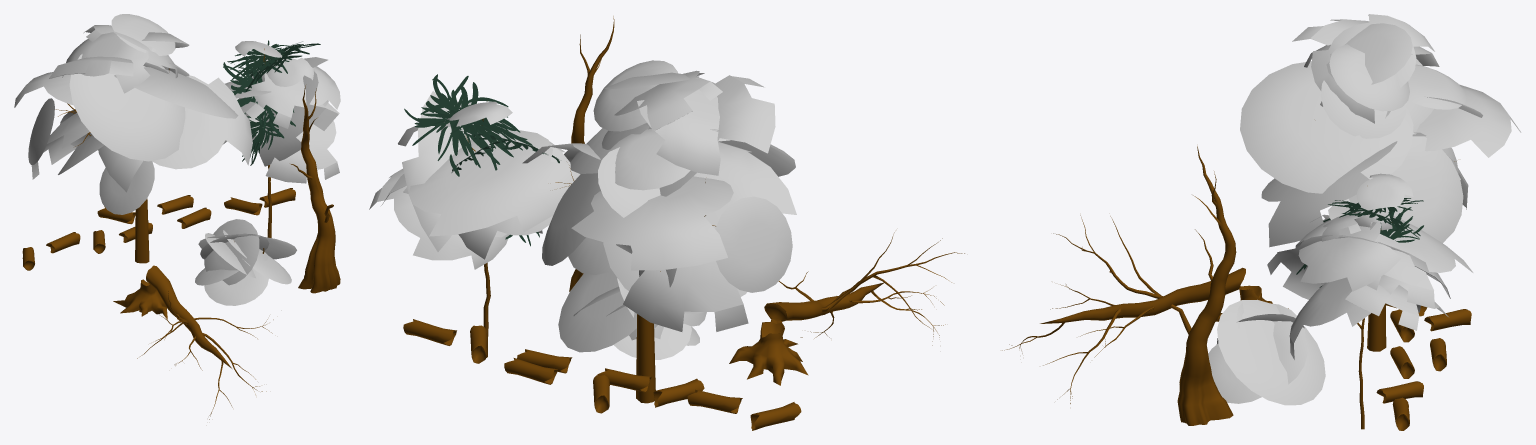
File: Trees.fbx
The picture shows the model from 3 angles, left to right: view 1: azimuth 30°, elevation 25°; view 2: azimuth 150°, elevation 25°; view 3: azimuth 270°, elevation 25°; orthographic projection. The views are drawn at different scales.
Visible parts, largest first — view 1: pSphere10, pSphere18, pasted__pasted__polySurface1609, pasted__polySurface40, pSphere11, pSphere32, pSphere27, pSphere1, pSphere35, pasted__pSphere36, pSphere21, pSphere2 (+26 smaller); view 2: pSphere30, pSphere14, pSphere12, pSphere15, pasted__polySurface40, pasted__pSphere40, pSphere1, pSphere7, pSphere25, pSphere8, pSphere19, pSphere32 (+25 smaller); view 3: pSphere11, pasted__pSphere40, pasted__pasted__polySurface1609, pSphere19, pSphere27, pasted__polySurface40, pSphere18, pSphere12, pSphere30, pSphere6, pSphere5, pSphere35 (+16 smaller).
Part boxes in pixels (<box>): pSphere10: <box>69,54,185,161</box>; pSphere18: <box>98,75,252,192</box>; pasted__pasted__polySurface1609: <box>291,85,340,293</box>; pasted__polySurface40: <box>113,265,273,419</box>; pSphere11: <box>114,67,238,118</box>; pSphere32: <box>245,57,338,166</box>; pSphere27: <box>249,66,340,128</box>; pSphere1: <box>62,32,156,93</box>; pSphere35: <box>236,98,339,183</box>; pasted__pSphere36: <box>204,219,259,285</box>; pSphere21: <box>99,160,154,214</box>; pSphere2: <box>111,14,175,55</box>; pSphere30: <box>381,130,580,236</box>; pSphere14: <box>623,142,796,331</box>; pSphere12: <box>571,176,733,270</box>; pSphere15: <box>715,196,792,292</box>; pasted__polySurface40: <box>729,232,964,385</box>; pasted__pSphere40: <box>558,271,636,352</box>; pSphere1: <box>637,73,730,175</box>; pSphere7: <box>616,75,775,253</box>; pSphere25: <box>404,74,532,176</box>; pSphere8: <box>609,129,690,190</box>; pSphere19: <box>542,173,600,265</box>; pSphere32: <box>402,91,509,251</box>; pSphere11: <box>1240,61,1413,193</box>; pasted__pSphere40: <box>1217,299,1325,405</box>; pasted__pasted__polySurface1609: <box>1170,146,1236,425</box>; pSphere19: <box>1388,133,1463,243</box>; pSphere27: <box>1295,212,1401,291</box>; pasted__polySurface40: <box>1002,215,1288,403</box>; pSphere18: <box>1261,132,1426,247</box>; pSphere12: <box>1416,84,1521,157</box>; pSphere30: <box>1328,201,1473,308</box>; pSphere6: <box>1329,44,1409,111</box>; pSphere5: <box>1311,14,1434,123</box>; pSphere35: <box>1289,275,1408,359</box>.
Bounding box in the file's own units: 47.11 × 43.08 × 54.89.
